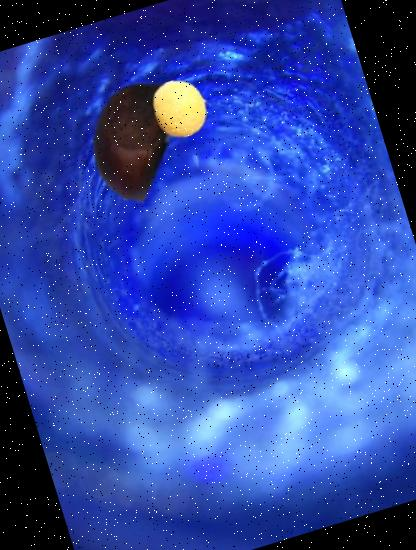Cantaloupe: (144, 71, 218, 145)
Chestnut: (54, 58, 210, 214)
